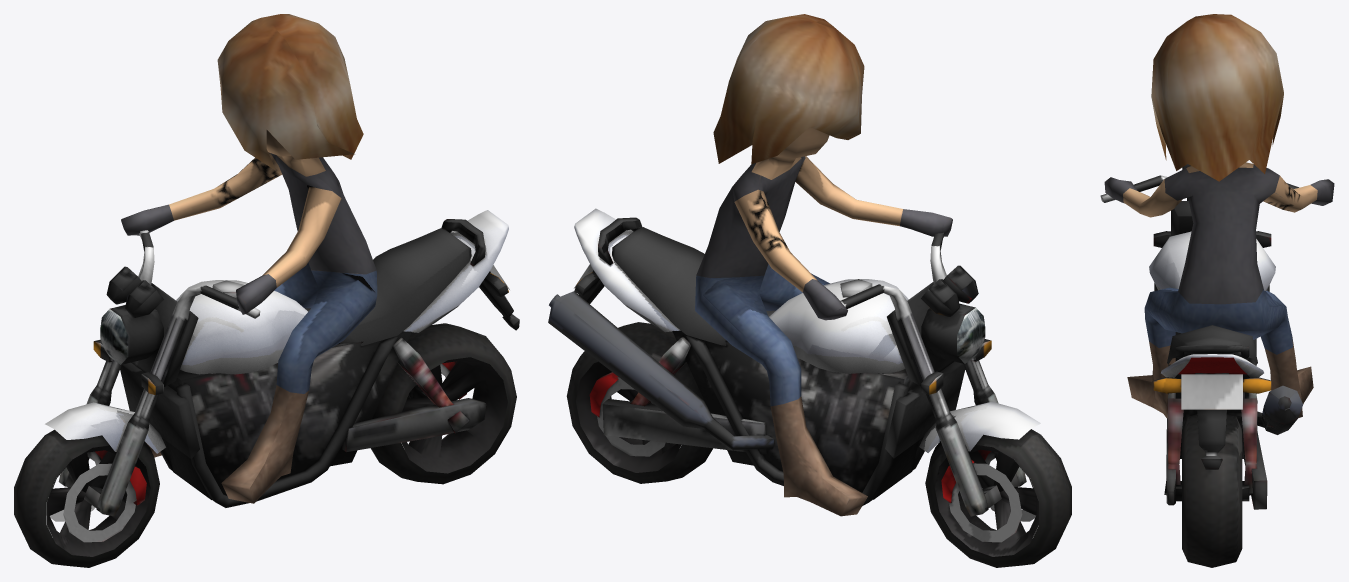
Rendered from Rider.fbx.
The picture shows the model from 3 angles, left to right: view 1: azimuth 30°, elevation 25°; view 2: azimuth 150°, elevation 25°; view 3: azimuth 270°, elevation 25°; orthographic projection. The views are drawn at different scales.
Parts seen in each view (by area): view 1: CBBody, RiderMesh_002, Skin, RearWheel, FrontWheel; view 2: CBBody, RiderMesh_002, Skin, FrontWheel, RearWheel; view 3: RiderMesh_002, CBBody, RearWheel, Skin.
Boxes of the visible parts, <box> form: CBBody: <box>46,219,519,542</box>; RiderMesh_002: <box>121,14,377,503</box>; Skin: <box>45,210,508,453</box>; RearWheel: <box>370,323,516,484</box>; FrontWheel: <box>14,429,159,567</box>; CBBody: <box>548,217,1035,542</box>; RiderMesh_002: <box>695,14,952,516</box>; Skin: <box>574,208,1040,452</box>; FrontWheel: <box>925,429,1071,567</box>; RearWheel: <box>566,322,712,483</box>; RiderMesh_002: <box>1104,14,1334,418</box>; CBBody: <box>1100,164,1303,509</box>; RearWheel: <box>1182,414,1242,567</box>; Skin: <box>1149,231,1275,377</box>.
Bounding box in the file's own units: 2.11 × 2.01 × 0.9061.
